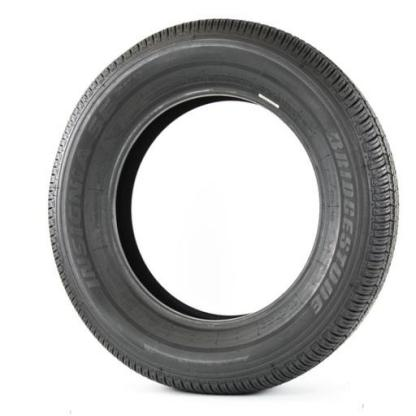Tire: (48, 18, 401, 396)
